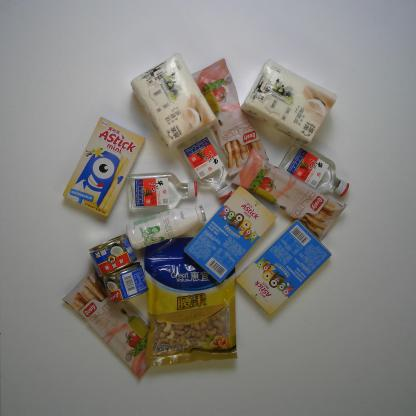Alcohol: (279, 141, 349, 200), (178, 128, 233, 201), (127, 169, 200, 212)
Canned Food: (88, 232, 137, 277), (100, 263, 149, 306)
Dessert: (62, 260, 169, 381), (236, 148, 347, 243), (189, 55, 271, 176), (233, 218, 332, 318), (183, 185, 277, 285), (62, 116, 146, 218)
Dried Fruit: (143, 235, 238, 368)
Milk: (126, 202, 208, 250)
Tissue: (240, 57, 340, 147), (131, 53, 217, 148)
